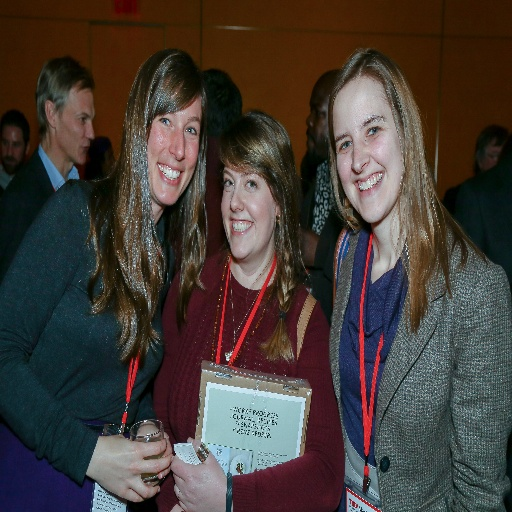hand: (91, 438, 168, 494), (170, 436, 226, 511), (299, 224, 319, 268), (159, 433, 176, 482)
